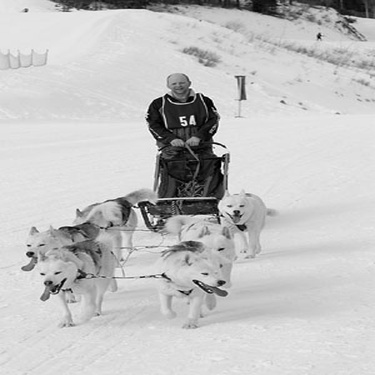dog: (32, 231, 129, 338), (141, 238, 239, 342), (64, 180, 162, 259), (207, 181, 293, 262), (16, 215, 105, 292), (159, 212, 243, 292)
